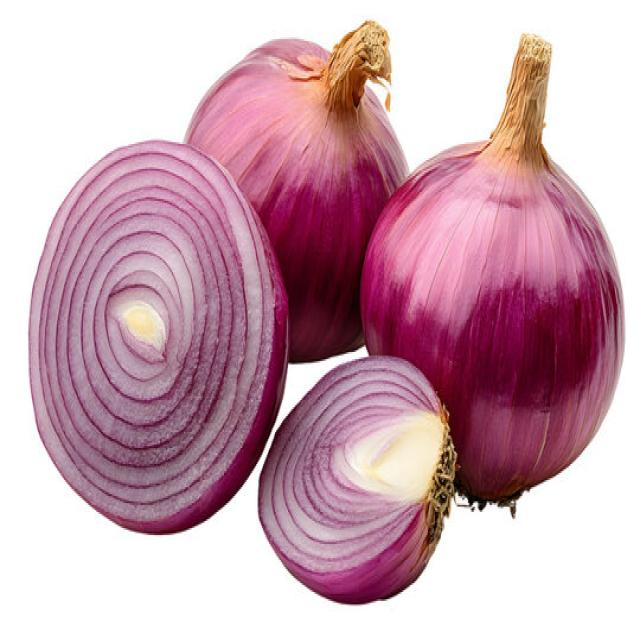Lemon: (120, 300, 166, 354)
Onion: (359, 30, 626, 514), (28, 137, 290, 535), (181, 18, 410, 362), (257, 352, 458, 604)
